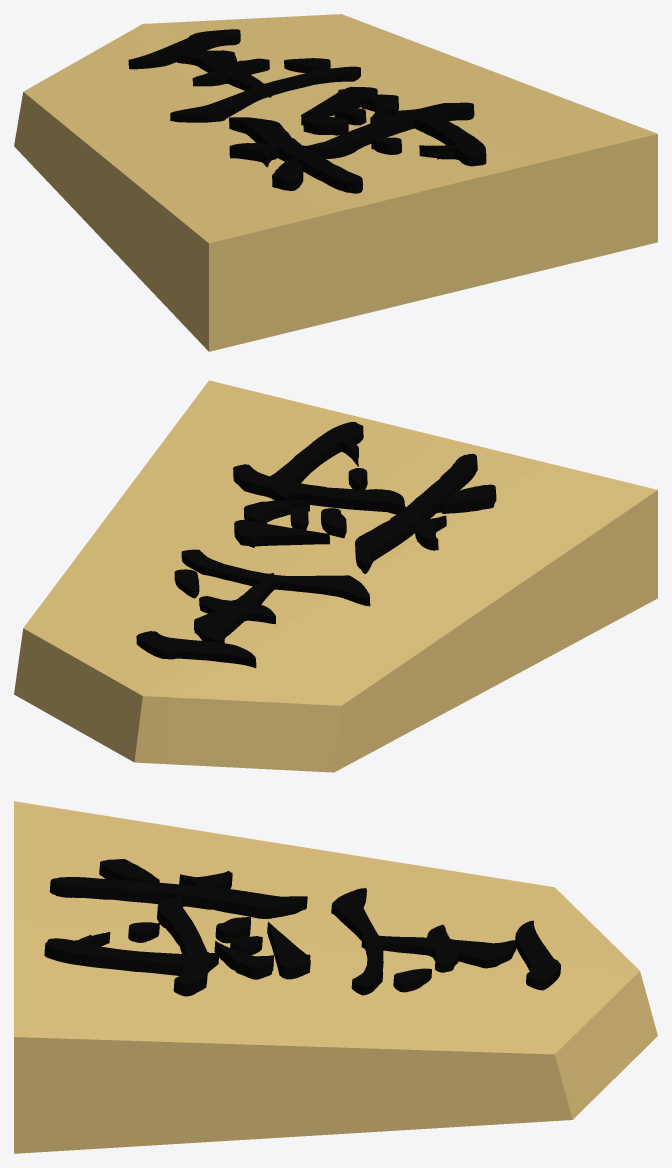
Rendered from GeneralDeJade.fbx.
3 views of the same model, one above another, from view 1: azimuth 30°, elevation 25°; view 2: azimuth 150°, elevation 25°; view 3: azimuth 270°, elevation 25° (orthographic). The views are drawn at different scales.
Parts seen in each view (by area): view 1: GeneralDeJade; view 2: GeneralDeJade; view 3: GeneralDeJade.
Part boxes in pixels (x1,y1,x2,y2): GeneralDeJade: (14,14,657,351); GeneralDeJade: (14,380,657,772); GeneralDeJade: (14,801,657,1153).
Bounding box in the file's own units: 63.4 × 15.74 × 73.15.
